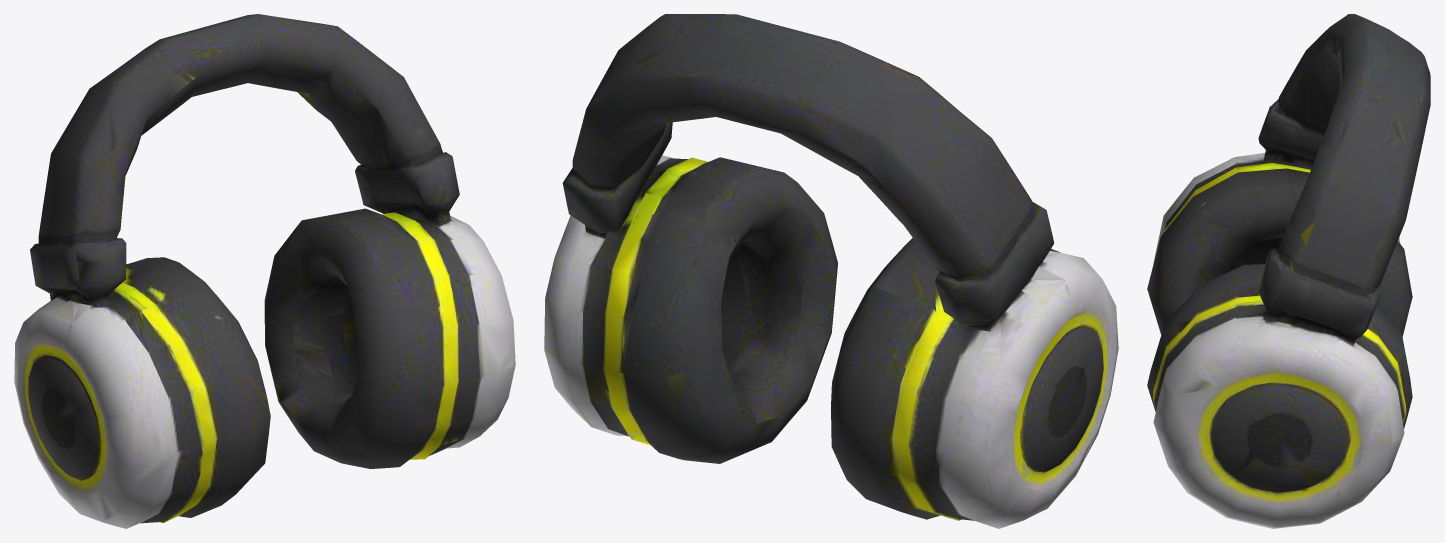
Rendered from milo_headphones.glb.
The picture shows the model from 3 angles, left to right: view 1: azimuth 30°, elevation 25°; view 2: azimuth 150°, elevation 25°; view 3: azimuth 270°, elevation 25°; orthographic projection. The views are drawn at different scales.
Parts seen in each view (by area): view 1: node_0; view 2: node_0; view 3: node_0.
Boxes of the visible parts, x1=… form: node_0: x1=14, y1=14, x2=515, y2=528; node_0: x1=544, y1=14, x2=1118, y2=528; node_0: x1=1147, y1=14, x2=1430, y2=528.
Size of the model in its own units: 1 by 0.9752 by 0.6048.
Materials: 1 (1 with a texture image).
